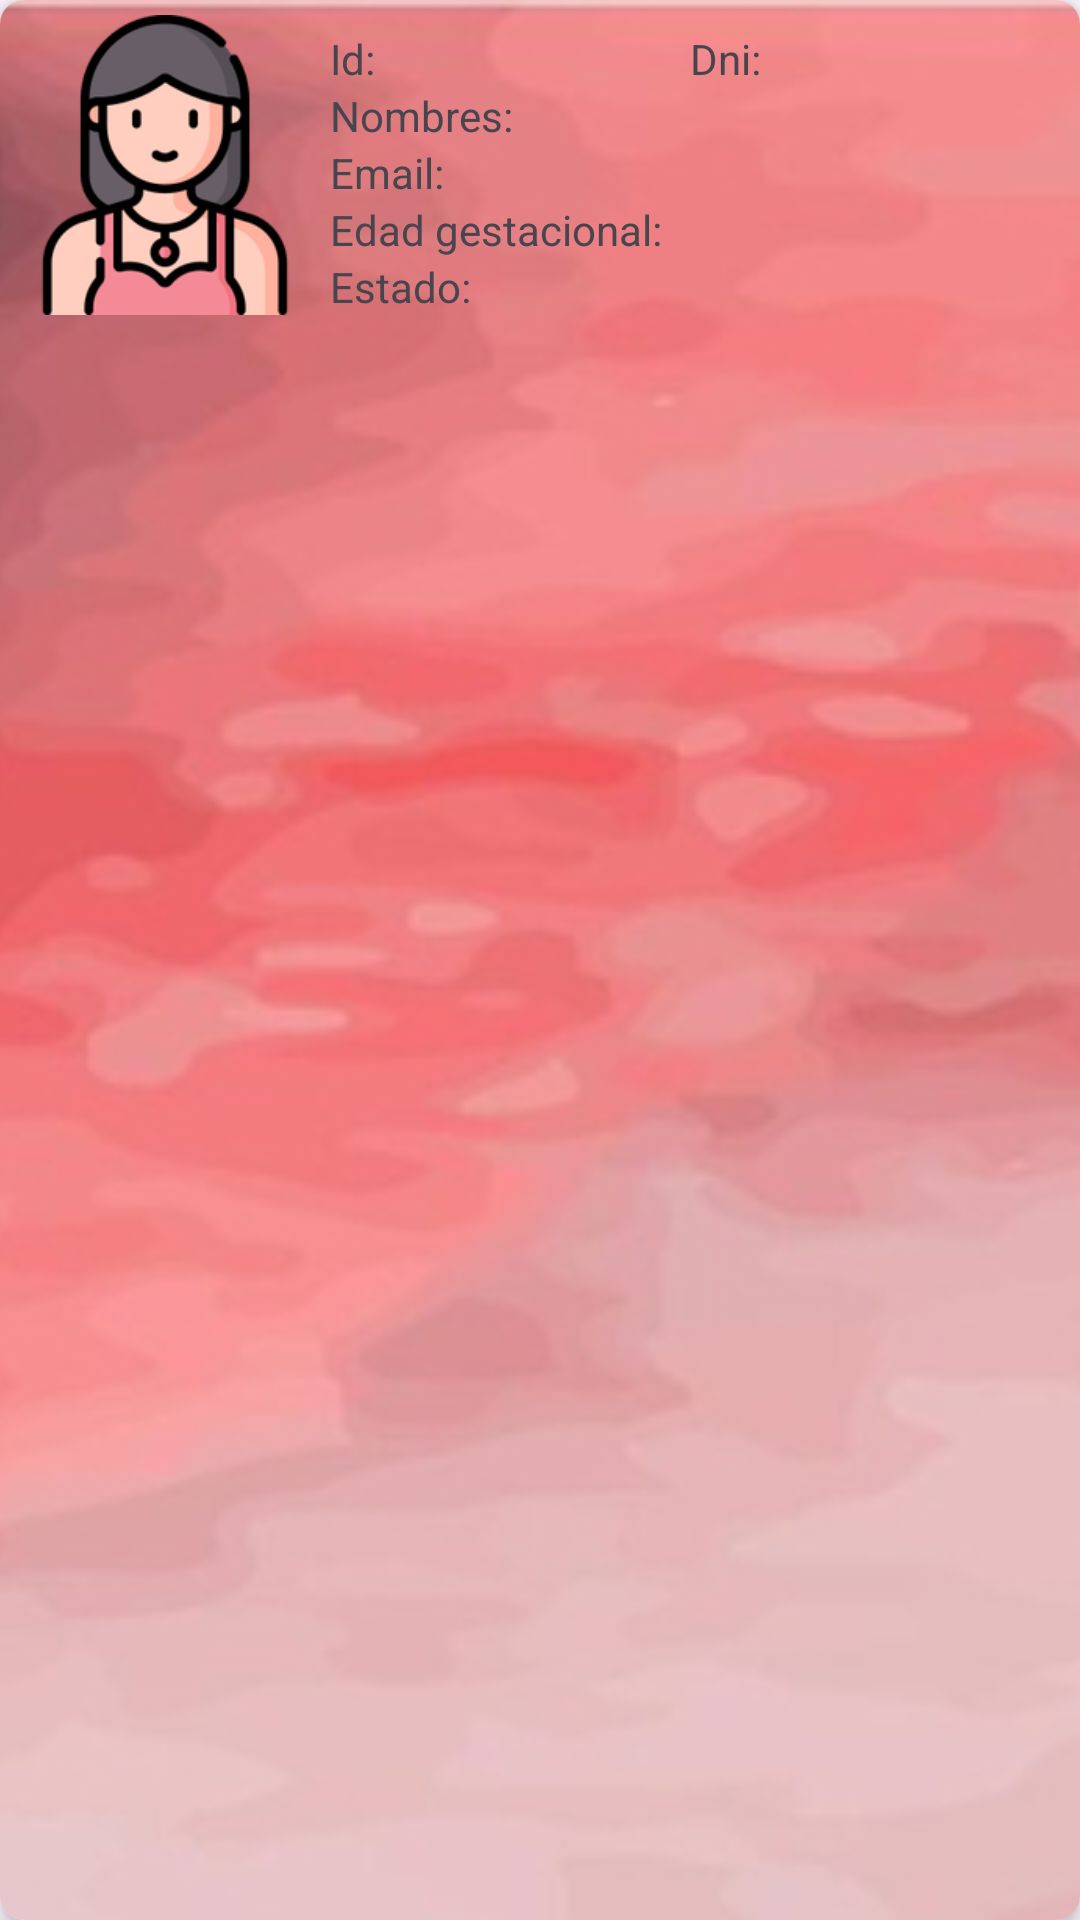

Where icons sit on this 1080w x 1920h app screen, as (x1, y1, x2, y2):
actriz: (15, 15, 299, 315)
